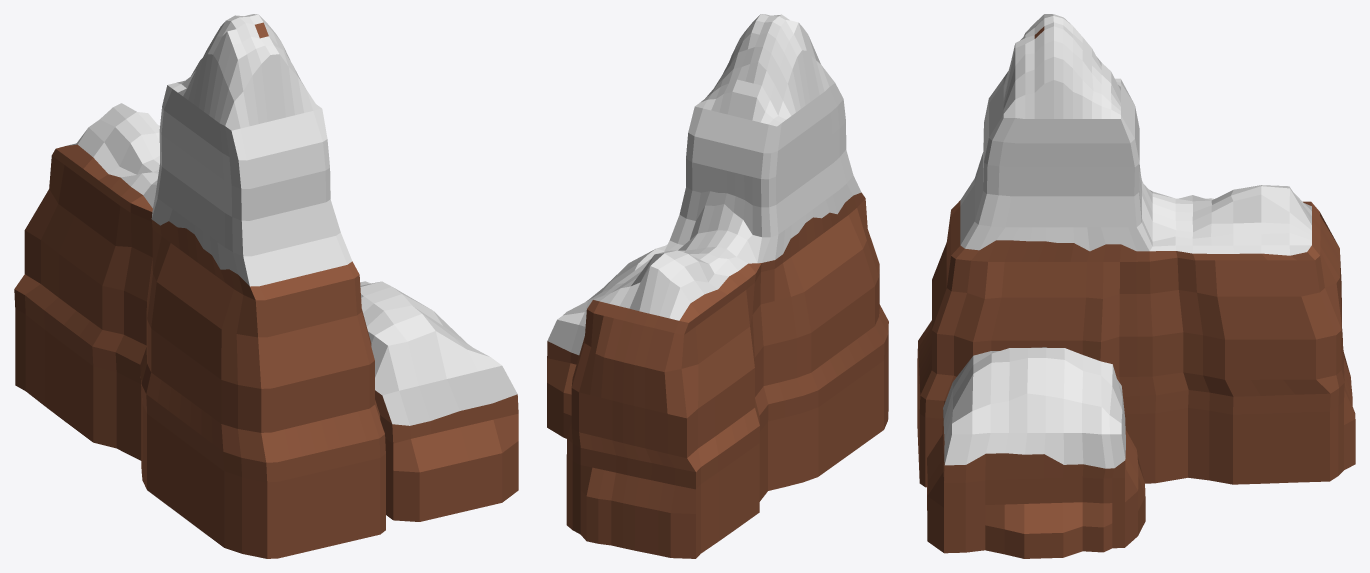
Rendered from mountainTop03.fbx.
3 renders of one model, left to right at view 1: azimuth 30°, elevation 25°; view 2: azimuth 150°, elevation 25°; view 3: azimuth 270°, elevation 25°, orthographic. The views are drawn at different scales.
Parts seen in each view (by area): view 1: Grid; view 2: Grid; view 3: Grid.
Boxes of the visible parts, x1,y1,x2,y2 form: Grid: [14, 14, 518, 558]; Grid: [547, 14, 888, 558]; Grid: [917, 14, 1355, 558].
Size of the model in its own units: 671 by 1016 by 917.
